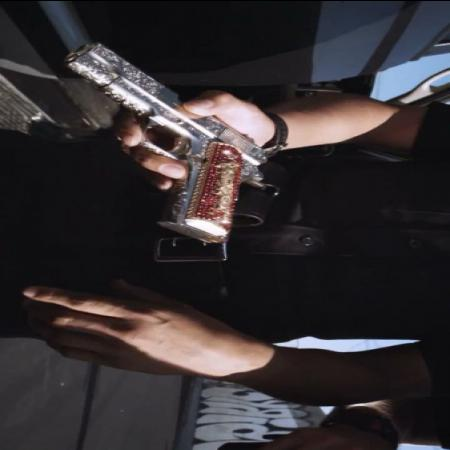Pistol: (50, 36, 284, 248)
